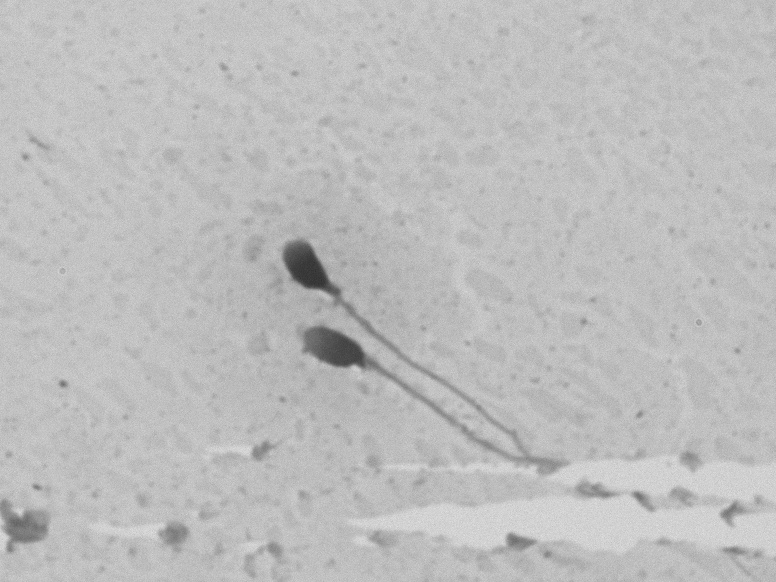Abnormal: (263, 207, 569, 512)
